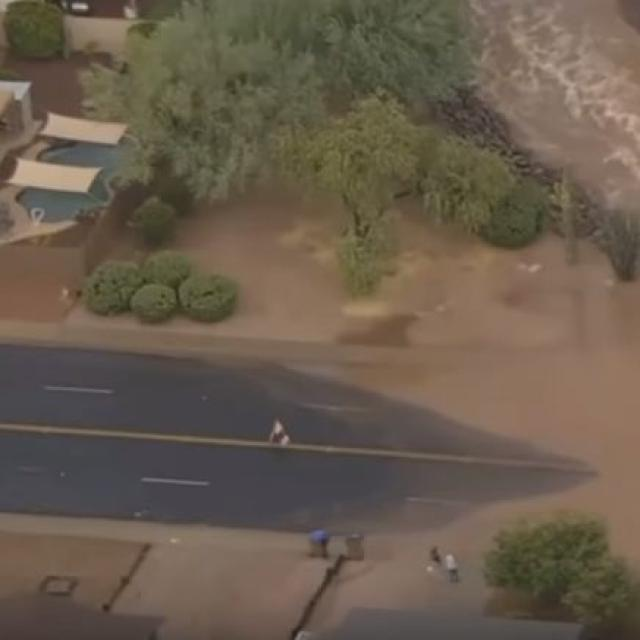flooded_areas: (163, 0, 638, 424), (320, 441, 622, 638)
